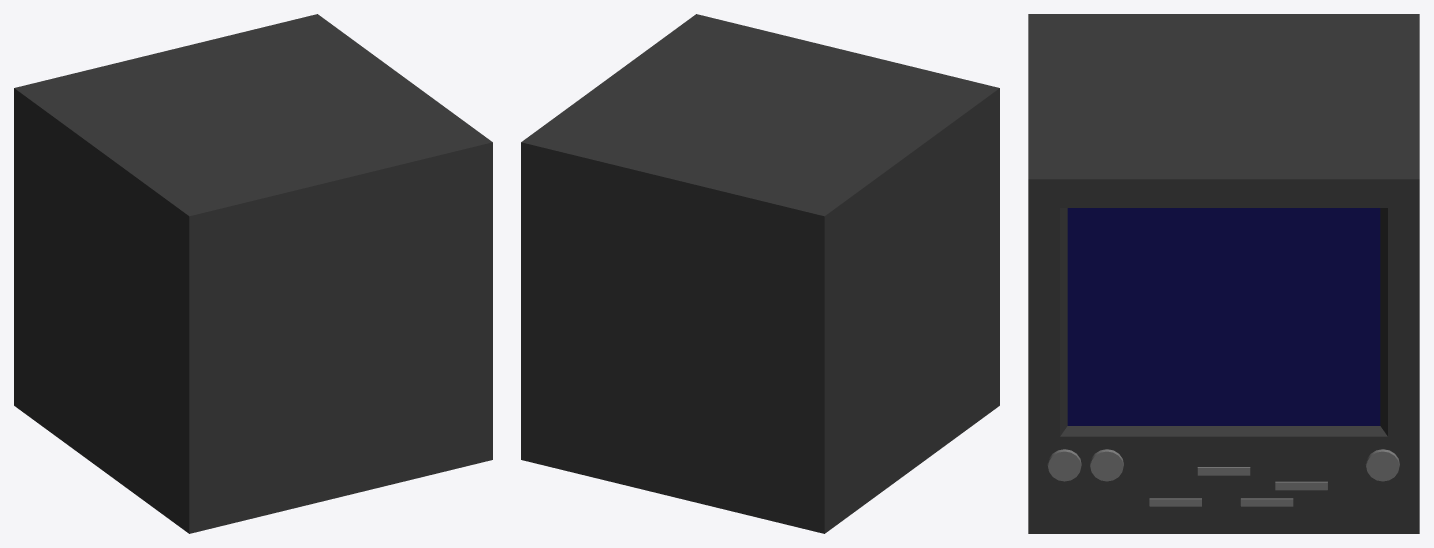
File: tele4.fbx
3 renders of one model, left to right at view 1: azimuth 30°, elevation 25°; view 2: azimuth 150°, elevation 25°; view 3: azimuth 270°, elevation 25°, orthographic. The views are drawn at different scales.
Visible parts, largest first — view 1: tele4_blocking; view 2: tele4_blocking; view 3: tele4_blocking.
Part boxes in pixels (box(x1,y1,x2,y2)): tele4_blocking: box(14, 14, 492, 533); tele4_blocking: box(521, 14, 999, 533); tele4_blocking: box(1028, 14, 1419, 533).
Size of the model in its own units: 183 by 181 by 181.
